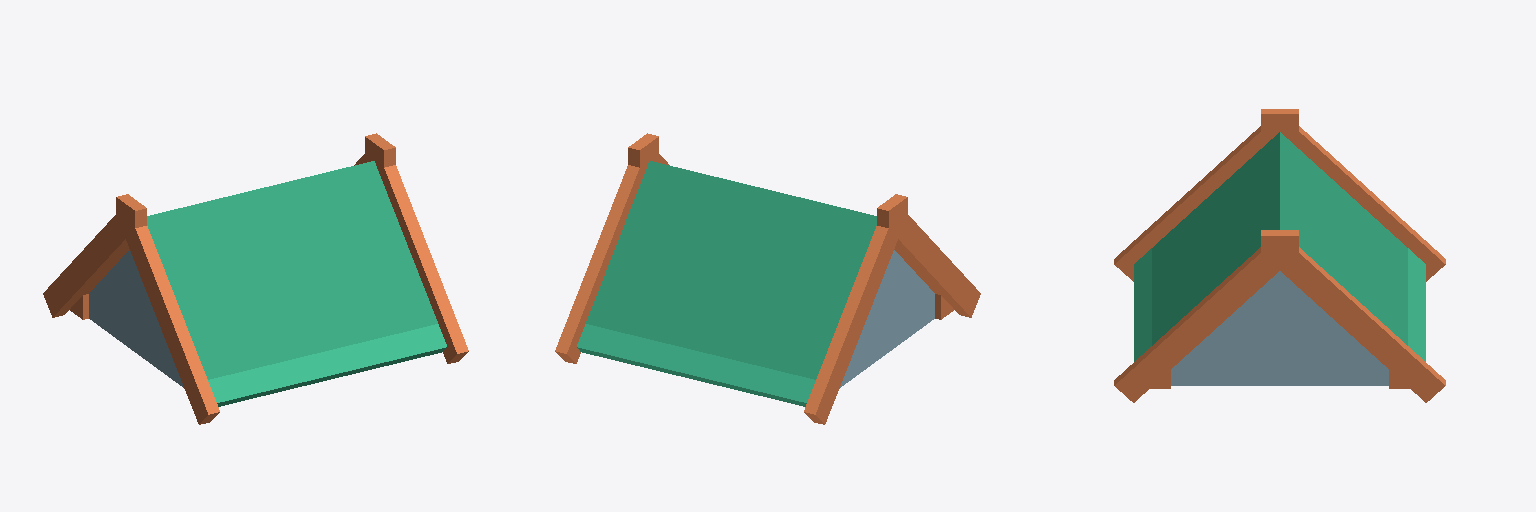
The model's file is roofGableDetail.obj.
3 renders of one model, left to right at view 1: azimuth 30°, elevation 25°; view 2: azimuth 150°, elevation 25°; view 3: azimuth 270°, elevation 25°, orthographic.
Parts seen in each view (by area): view 1: roofGableDetail; view 2: roofGableDetail; view 3: roofGableDetail.
Boxes of the visible parts, box(x1,y1,x2,y2) form: roofGableDetail: box(43, 133, 468, 424); roofGableDetail: box(555, 133, 980, 424); roofGableDetail: box(1114, 109, 1445, 402).
Size of the model in its own units: 1.1 by 0.676 by 1.21.